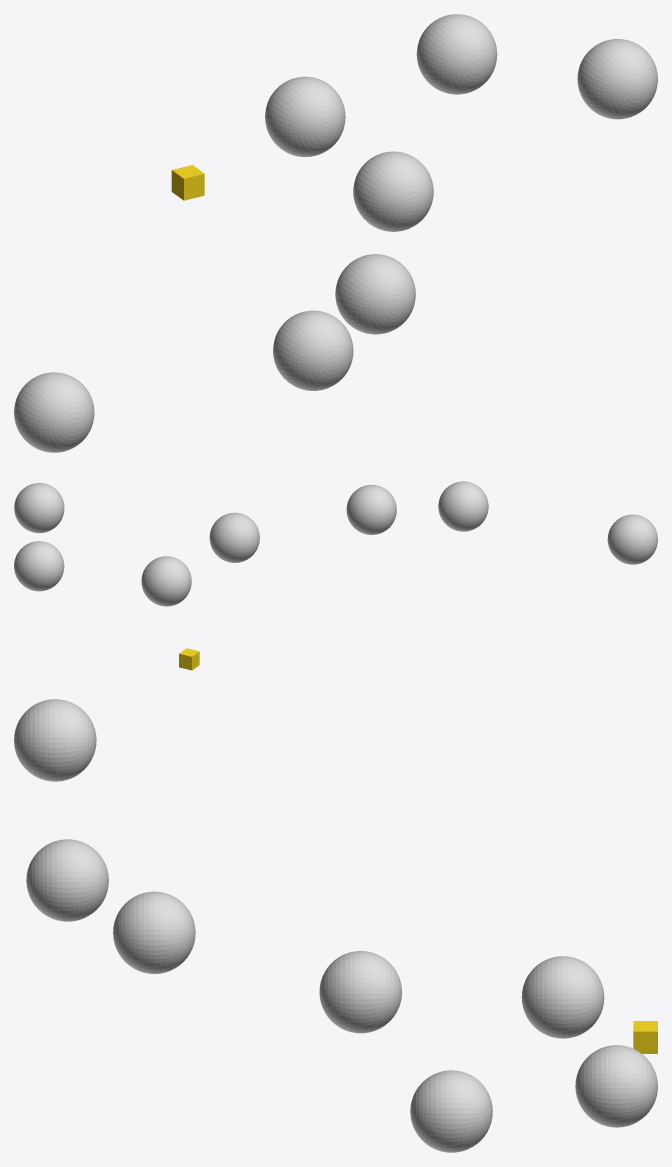
File: tinker.obj
The picture shows the model from 3 angles, top to bottom: view 1: azimuth 30°, elevation 25°; view 2: azimuth 150°, elevation 25°; view 3: azimuth 270°, elevation 25°; orthographic projection. The views are drawn at different scales.
Parts seen in each view (by area): view 1: obj_5, obj_7, obj_3, obj_6, obj_0, obj_4, obj_2, obj_1; view 2: obj_0, obj_7, obj_3, obj_2, obj_4, obj_6, obj_5, obj_1; view 3: obj_7, obj_2, obj_3, obj_5, obj_6, obj_0, obj_4, obj_1.
Part boxes in pixels (x1,y1,x2,y2): obj_5: [335, 254, 415, 334]; obj_7: [14, 372, 94, 452]; obj_3: [577, 39, 657, 119]; obj_6: [273, 310, 353, 390]; obj_0: [265, 76, 345, 157]; obj_4: [353, 151, 433, 231]; obj_2: [416, 14, 497, 94]; obj_1: [171, 165, 204, 200]; obj_0: [141, 556, 191, 606]; obj_7: [607, 514, 657, 564]; obj_3: [14, 483, 64, 533]; obj_2: [14, 541, 64, 591]; obj_4: [209, 512, 259, 562]; obj_6: [438, 481, 488, 531]; obj_5: [346, 484, 396, 534]; obj_1: [179, 648, 199, 670]; obj_7: [14, 699, 96, 781]; obj_2: [575, 1045, 657, 1127]; obj_3: [410, 1070, 492, 1152]; obj_5: [113, 891, 195, 973]; obj_6: [26, 839, 108, 921]; obj_0: [521, 956, 604, 1038]; obj_4: [319, 951, 401, 1033]; obj_1: [633, 1021, 657, 1053].
Size of the model in its own units: 237 by 38 by 156.
